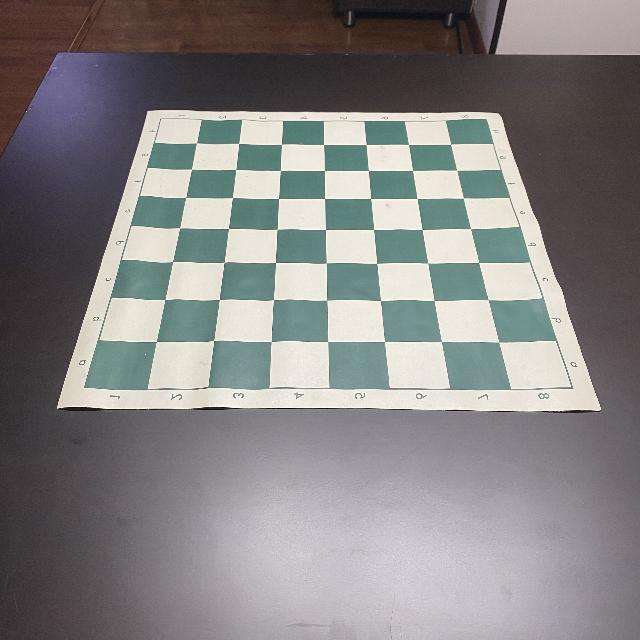board: (56, 109, 602, 413)
